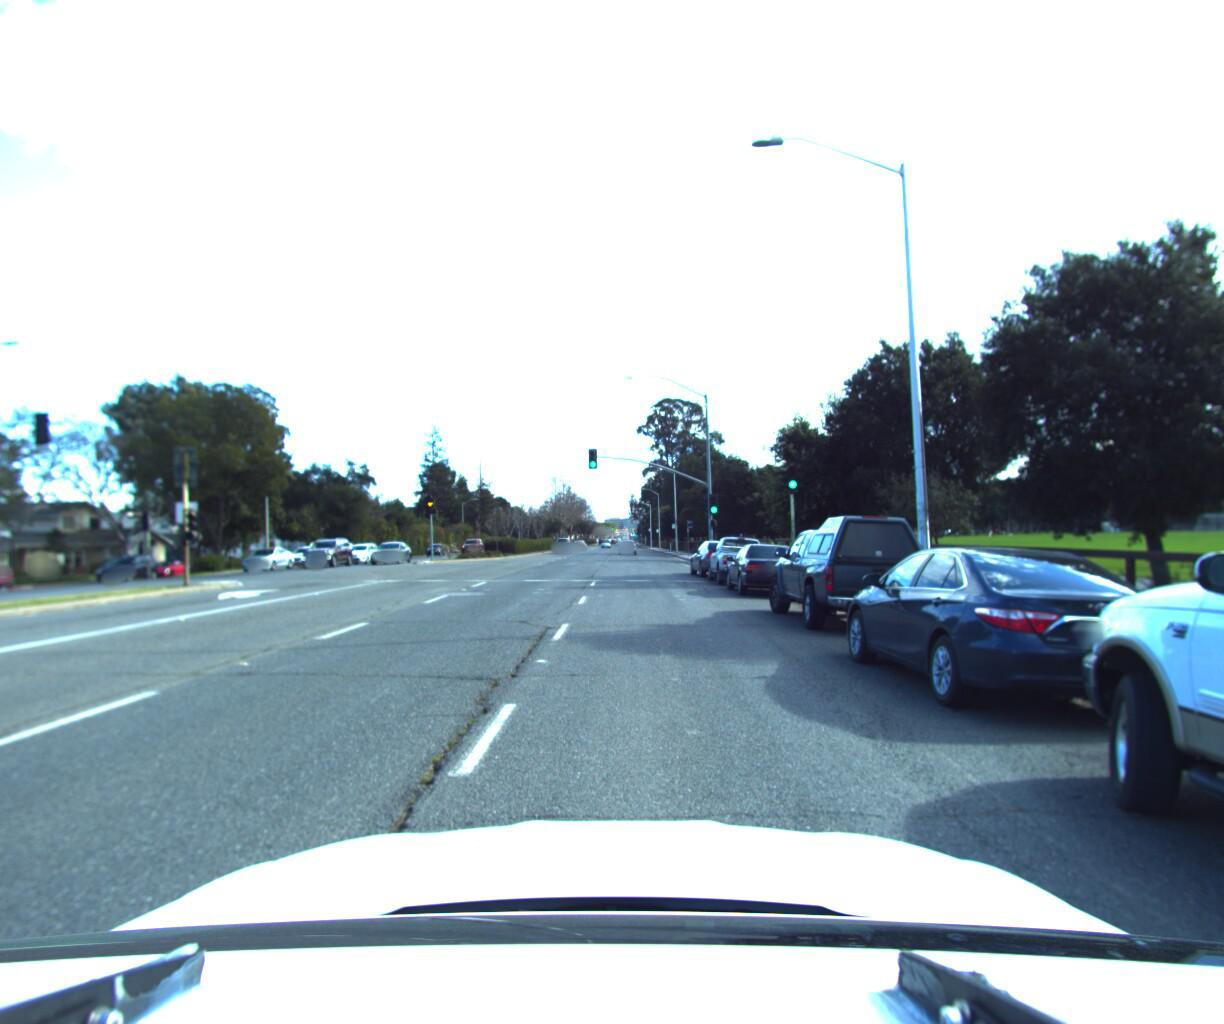car: (833, 532, 1221, 738), (767, 504, 943, 637), (725, 536, 815, 597), (708, 530, 781, 584), (690, 534, 753, 575), (98, 553, 167, 583), (303, 534, 360, 566), (240, 543, 299, 570), (370, 534, 419, 562), (282, 539, 331, 566), (142, 556, 200, 580), (342, 538, 385, 562), (617, 534, 636, 550)
